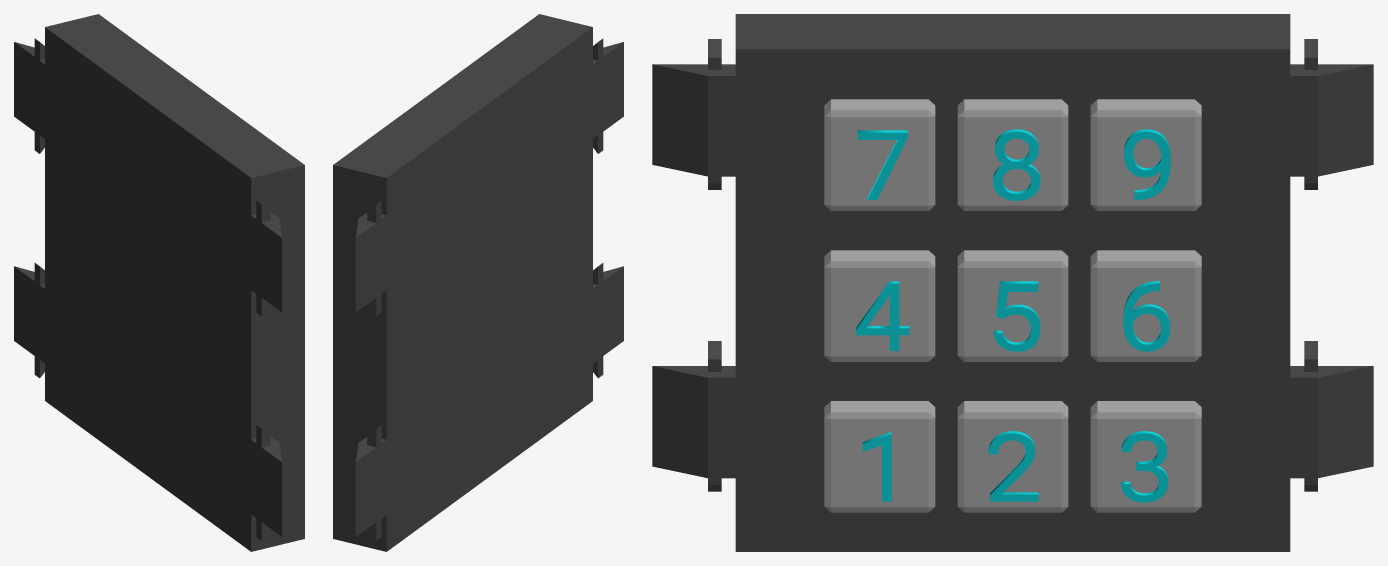
File: Lift Panel.fbx
3 views of the same model, side by side, from view 1: azimuth 30°, elevation 25°; view 2: azimuth 150°, elevation 25°; view 3: azimuth 270°, elevation 25° (orthographic). The views are drawn at different scales.
Visible parts, largest first — view 1: Panel (Normal Mapped), Panel Buttons and Holders; view 2: Panel (Normal Mapped), Panel Buttons and Holders; view 3: Panel (Normal Mapped), Panel Buttons and Holders, Panel Text.
Boxes of the visible parts, bbox=[...] form: Panel (Normal Mapped): bbox=[45, 14, 304, 551]; Panel Buttons and Holders: bbox=[14, 38, 282, 540]; Panel (Normal Mapped): bbox=[333, 14, 592, 551]; Panel Buttons and Holders: bbox=[355, 38, 623, 540]; Panel (Normal Mapped): bbox=[735, 14, 1290, 551]; Panel Buttons and Holders: bbox=[652, 39, 1373, 512]; Panel Text: bbox=[856, 129, 1170, 502].
Size of the model in its own units: 0.21 by 1 by 1.3.
